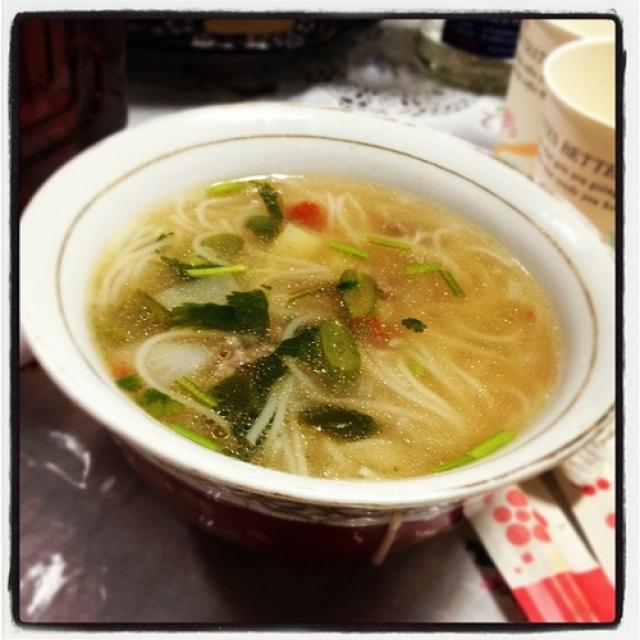面条主食: (62, 116, 581, 564)
